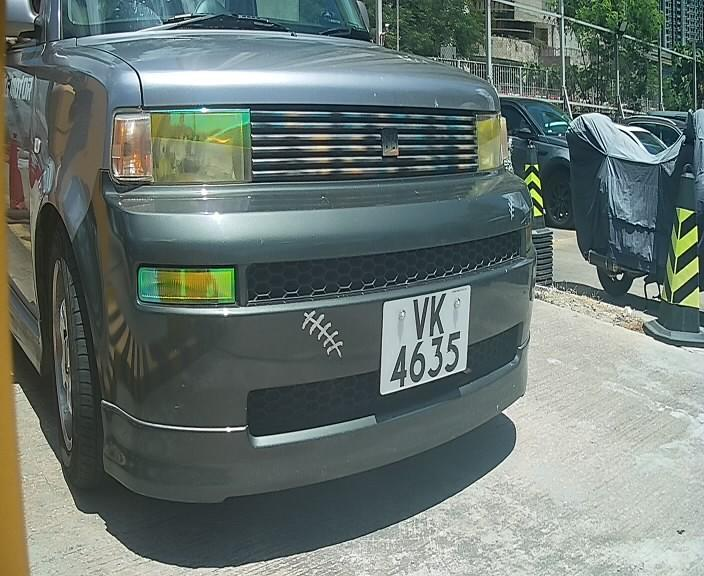License Plate: (371, 276, 472, 399)
